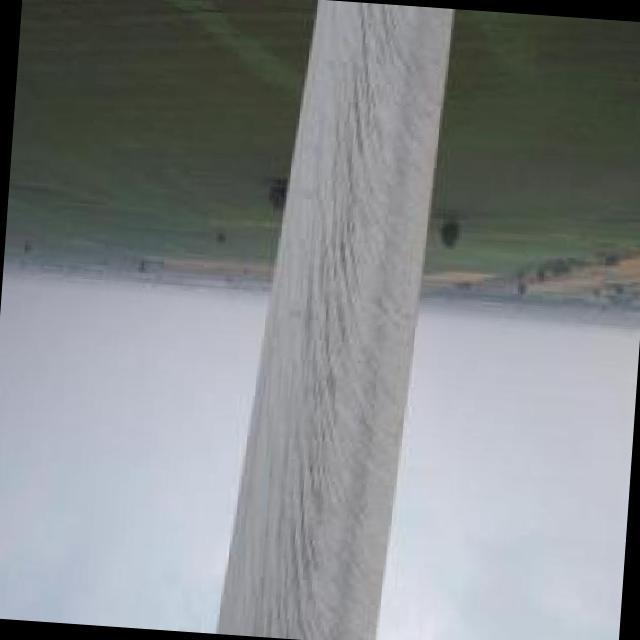Dirt: (235, 7, 446, 640)
